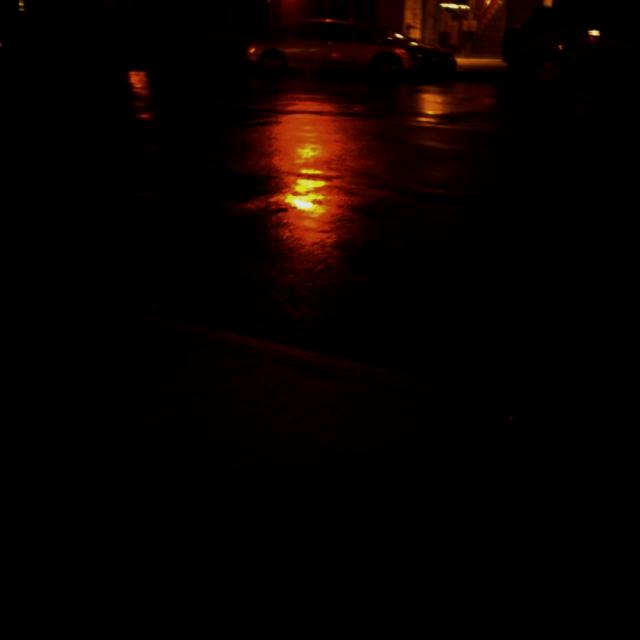Car: (240, 10, 455, 85)
